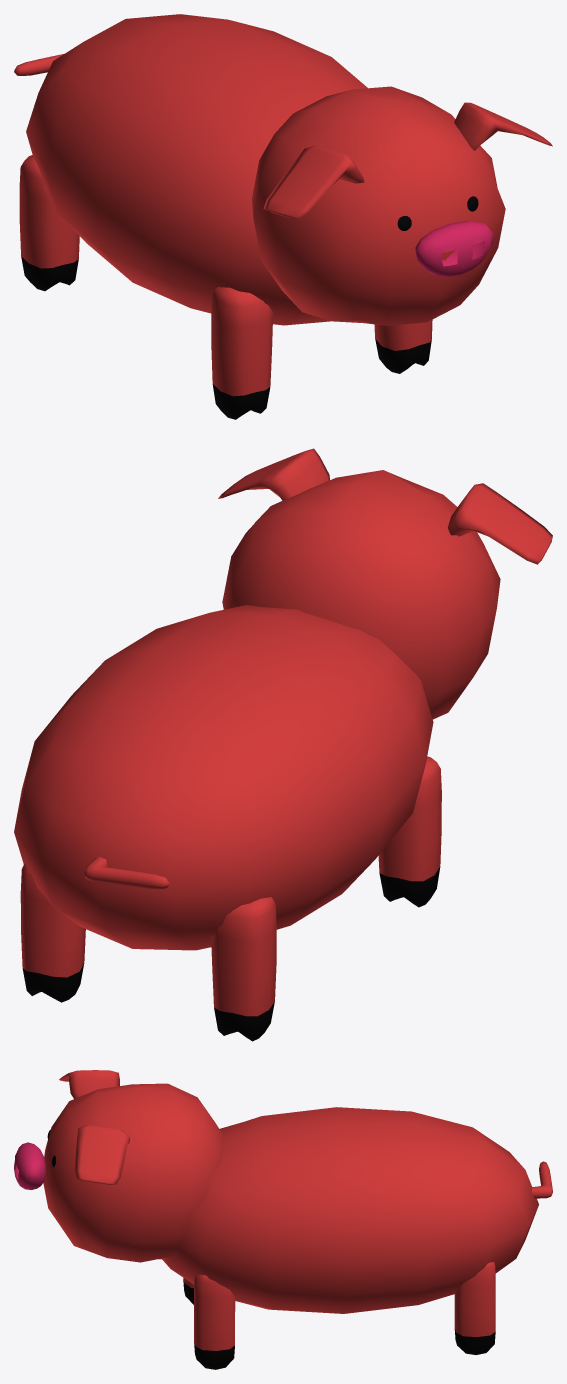
Rendered from porco.obj.
3 views of the same model, one above another, from view 1: azimuth 30°, elevation 25°; view 2: azimuth 150°, elevation 25°; view 3: azimuth 270°, elevation 25° (orthographic). The views are drawn at different scales.
Visible parts, largest first — view 1: Cube, Cubo.003, Cubo.008, Cubo.006, Cubo.007, Cubo.004, Cubo.009; view 2: Cube, Cubo.003, Cubo.007, Cubo.006, Cubo.008, Cubo.009; view 3: Cube, Cubo.003, Cubo.006, Cubo.008, Cubo.007, Cubo.004, Cubo.009.
Boxes of the visible parts, left/top/right/bottom form: Cube: left=26, top=14, right=367, bottom=325; Cubo.003: left=251, top=86, right=505, bottom=325; Cubo.008: left=211, top=287, right=432, bottom=419; Cubo.006: left=263, top=102, right=552, bottom=218; Cubo.007: left=19, top=155, right=79, bottom=291; Cubo.004: left=415, top=221, right=493, bottom=277; Cubo.009: left=14, top=54, right=63, bottom=75; Cube: left=14, top=605, right=433, bottom=950; Cubo.003: left=222, top=470, right=500, bottom=719; Cubo.007: left=20, top=863, right=276, bottom=1041; Cubo.006: left=218, top=448, right=552, bottom=564; Cubo.008: left=378, top=756, right=441, bottom=907; Cubo.009: left=84, top=857, right=170, bottom=889; Cube: left=162, top=1107, right=538, bottom=1313; Cubo.003: left=43, top=1083, right=224, bottom=1262; Cubo.006: left=59, top=1070, right=129, bottom=1184; Cubo.008: left=183, top=1274, right=235, bottom=1369; Cubo.007: left=454, top=1262, right=495, bottom=1354; Cubo.004: left=14, top=1142, right=45, bottom=1189; Cubo.009: left=532, top=1161, right=552, bottom=1198.
Bounding box in the file's own units: 3.34 × 3.52 × 6.92.
